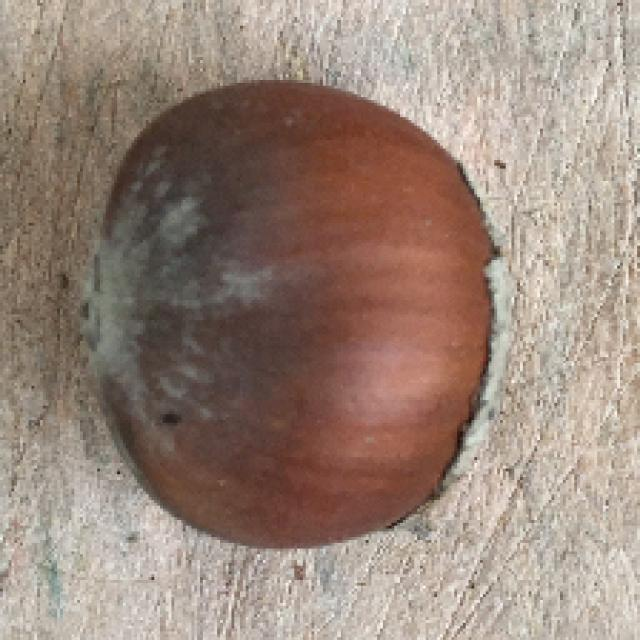damagedHazelnut: (83, 82, 507, 550)
